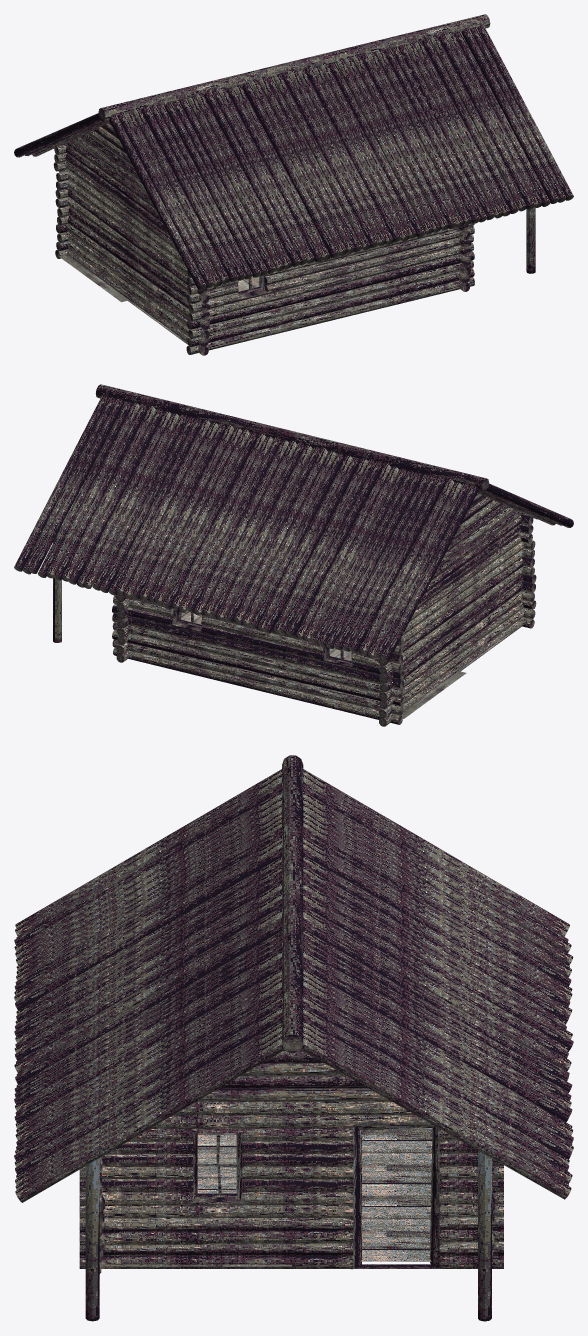
File: shack.gltf
The picture shows the model from 3 angles, top to bottom: view 1: azimuth 30°, elevation 25°; view 2: azimuth 150°, elevation 25°; view 3: azimuth 270°, elevation 25°; orthographic projection. The views are drawn at different scales.
Parts seen in each view (by area): view 1: ceiling, leftWall, wall.001, ceiling1, topwall.001, rightWall, wall, Beam.001, Floor.001; view 2: ceiling, rightWall, wall.001, ceiling1, topwall.001, leftWall, Floor.001, wall, Beam; view 3: ceiling, wall, Floor.001, ceiling1, topwall, Floor, Beam.001, Beam, log1, log.
Part boxes in pixels (x1,y1,x2,y2): ceiling: (14, 25, 573, 290); leftWall: (186, 222, 474, 354); wall.001: (57, 145, 210, 355); ceiling1: (98, 14, 490, 121); topwall.001: (65, 122, 155, 209); rightWall: (53, 143, 69, 258); wall: (458, 224, 471, 291); Beam.001: (526, 207, 535, 273); Floor.001: (59, 254, 129, 302); ceiling: (14, 395, 573, 661); rightWall: (112, 557, 404, 724); wall.001: (378, 513, 529, 726); ceiling1: (95, 384, 488, 492); topwall.001: (389, 493, 523, 608); leftWall: (518, 514, 536, 628); Floor.001: (181, 612, 466, 718); wall: (116, 547, 191, 662); Beam: (53, 525, 61, 642); ceiling: (14, 769, 573, 1202); wall: (79, 1101, 503, 1268); Floor.001: (360, 1128, 432, 1261); ceiling1: (282, 755, 303, 1052); topwall: (91, 985, 391, 1101); Floor: (101, 1133, 291, 1266); Beam.001: (85, 1158, 99, 1321); Beam: (478, 1150, 491, 1321); log1: (430, 1126, 447, 1266); log: (345, 1126, 361, 1269).
Bounding box in the file's own units: 10.79 × 5.42 × 9.14.
3 materials, 3 textured.
